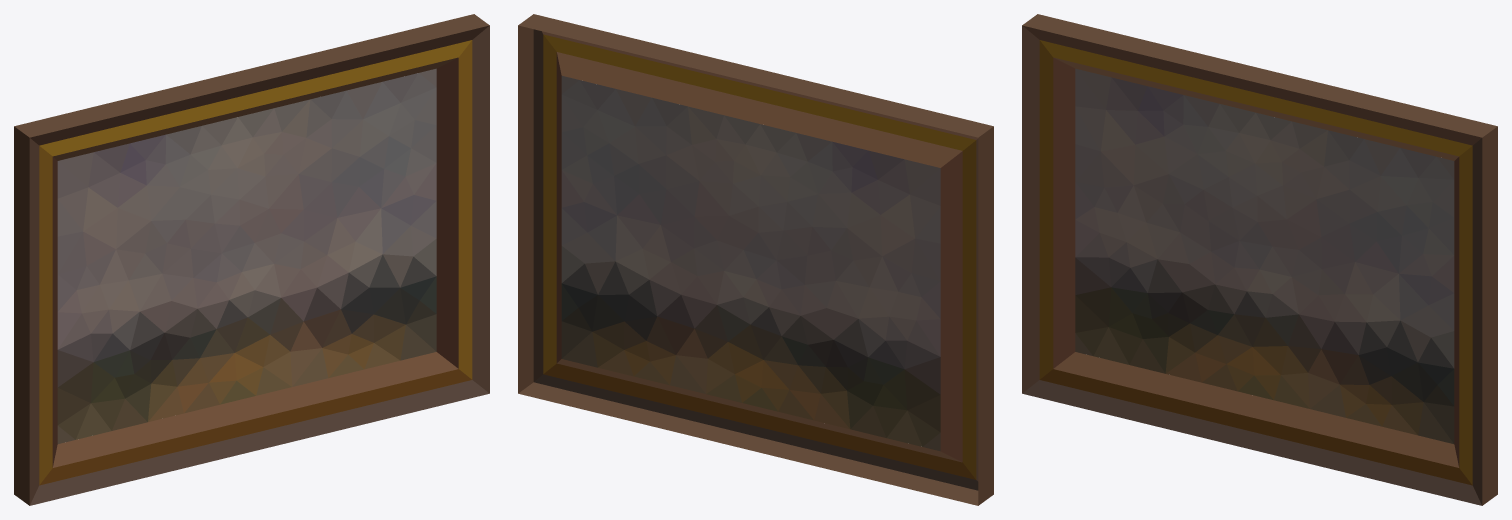
File: Prop_PaintingE.fbx
3 views of the same model, side by side, from view 1: azimuth 30°, elevation 25°; view 2: azimuth 150°, elevation 25°; view 3: azimuth 330°, elevation 25° (orthographic).
Visible parts, largest first — view 1: Prop_PaintingE; view 2: Prop_PaintingE; view 3: Prop_PaintingE.
Part boxes in pixels (x1,y1,x2,y2): Prop_PaintingE: [14, 14, 489, 505]; Prop_PaintingE: [518, 14, 993, 505]; Prop_PaintingE: [1022, 14, 1497, 505].
Size of the model in its own units: 128 by 97.5 by 7.5.
